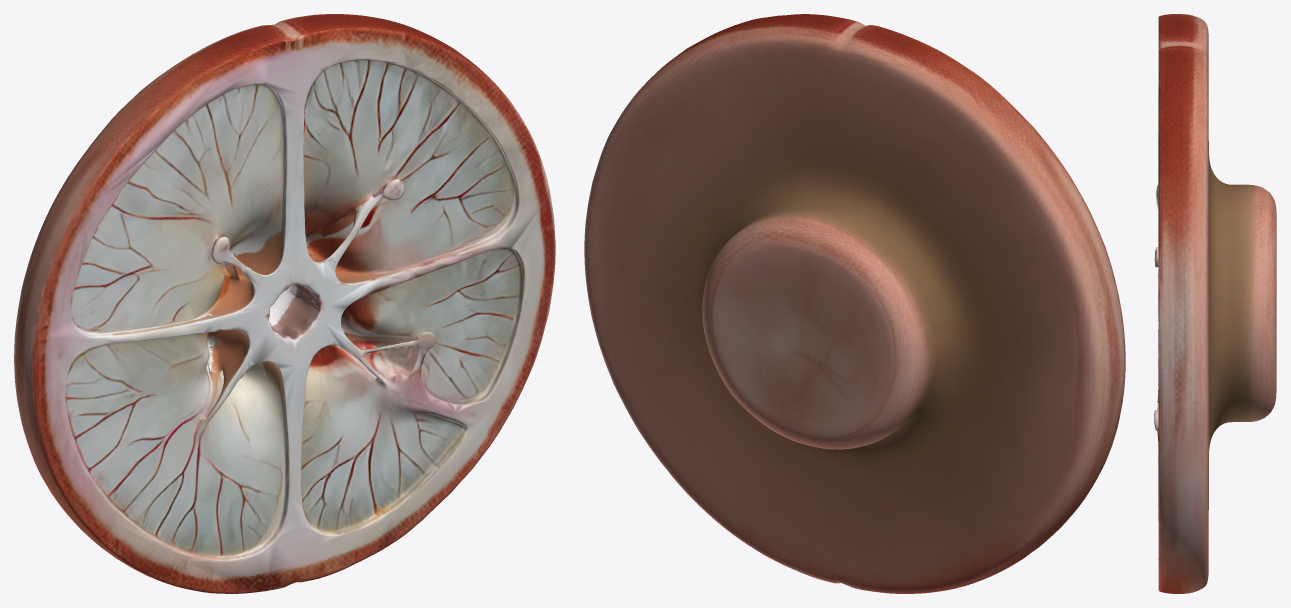
Rendered from vet_v2_organ_cow_omasum.glb.
3 renders of one model, left to right at view 1: azimuth 30°, elevation 25°; view 2: azimuth 150°, elevation 25°; view 3: azimuth 270°, elevation 25°, orthographic. The views are drawn at different scales.
Visible parts, largest first — view 1: model; view 2: model; view 3: model.
Part boxes in pixels (box(x1,y1,x2,y2)): model: box(14, 14, 555, 593); model: box(584, 14, 1125, 593); model: box(1154, 14, 1276, 593).
Bounding box in the file's own units: 1.9 × 1.9 × 0.4035.
Materials: 1 (1 with a texture image).
